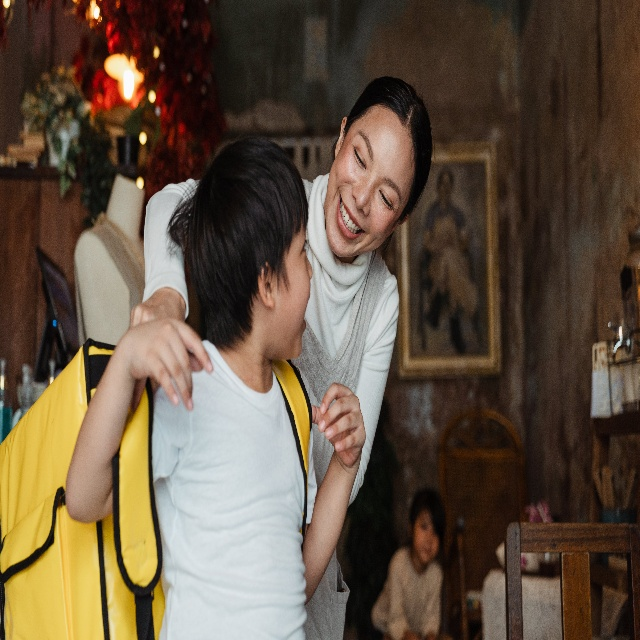Sin_guantes: (119, 315, 213, 414), (127, 298, 183, 400), (311, 380, 366, 462)
